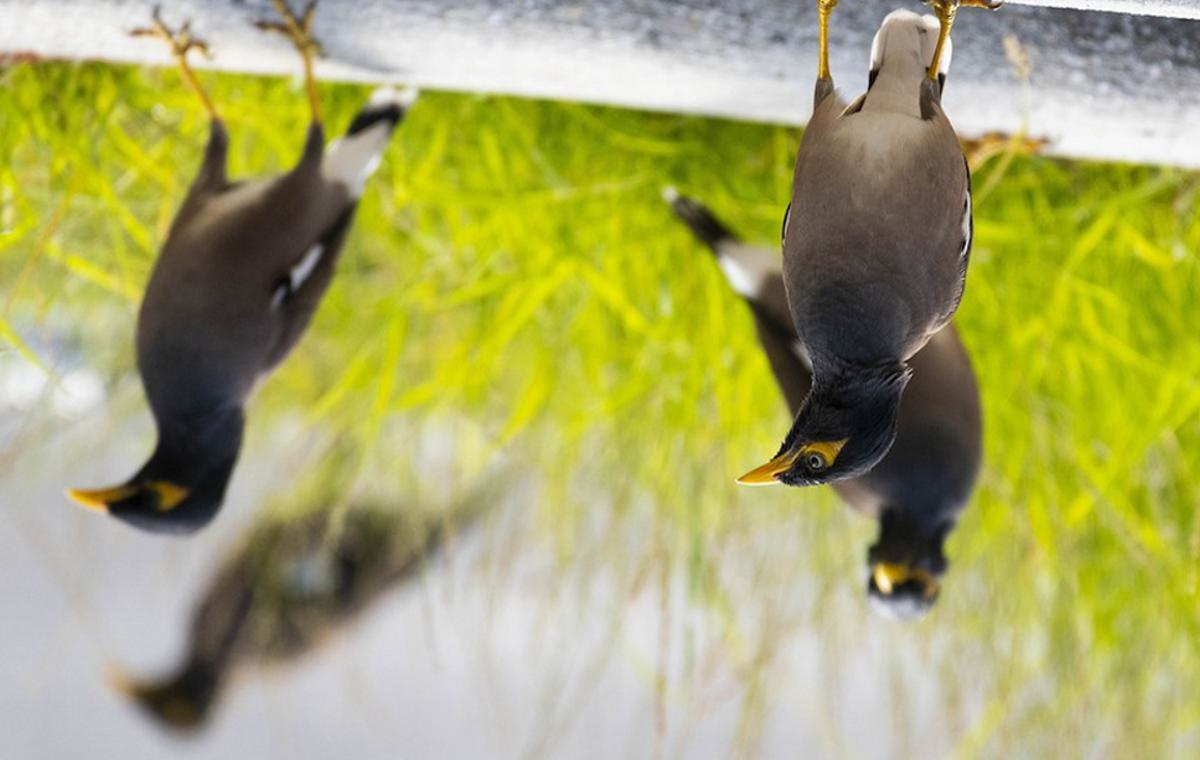myna: (67, 87, 408, 571), (724, 45, 981, 518)
